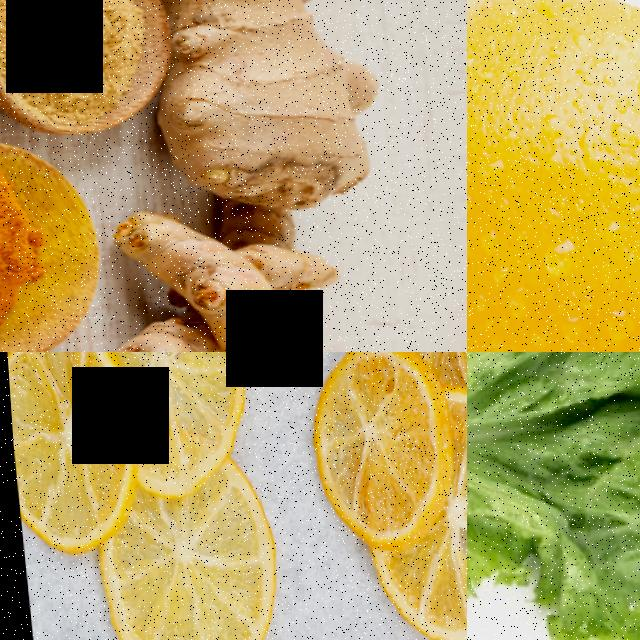ginger: (148, 0, 386, 217), (95, 201, 346, 352)
lemon: (467, 0, 640, 352), (301, 352, 453, 554), (2, 352, 138, 555), (94, 497, 284, 640), (108, 352, 251, 487)
lettuce: (467, 352, 640, 640)
